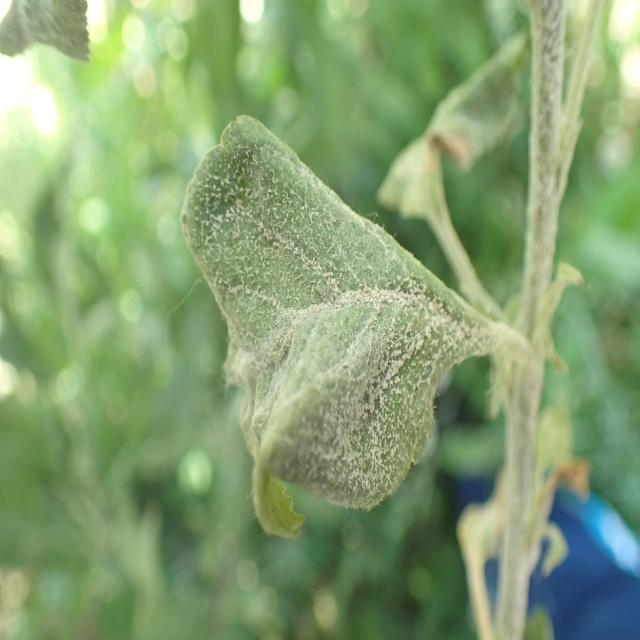Powdery_mildew: (175, 91, 501, 545), (0, 0, 130, 92)
